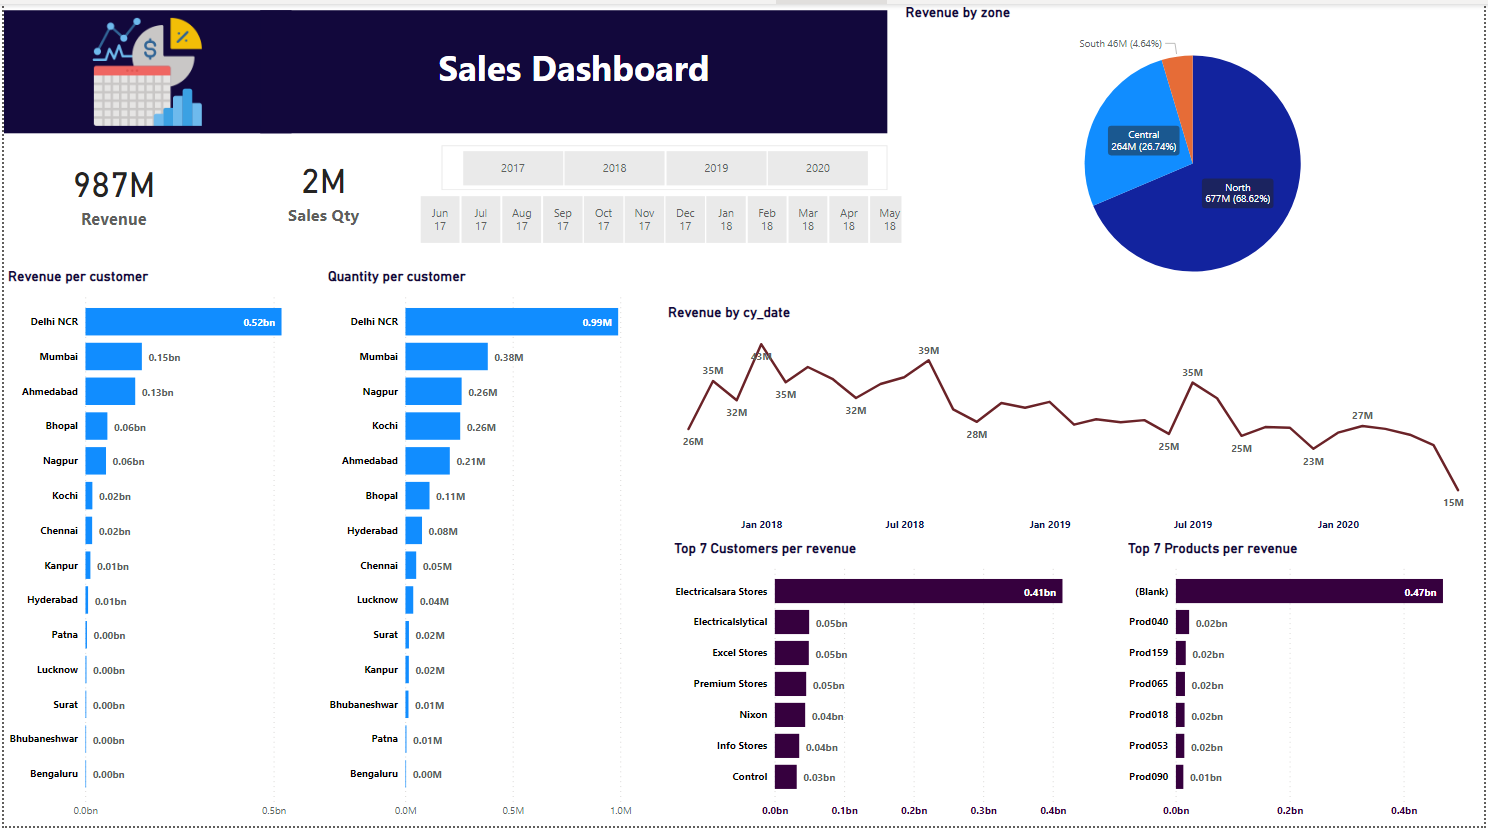

What the dashboard file says about the page in this screenshot:
{"tool":"powerbi","page":{"name":"Page 1","canvas":[1800,1000],"ordinal":0},"visuals":[{"type":"card","fields":{"Values":["Base Measure.Revenue"]},"box":[0,157.6,267.4,140.6],"z":0},{"type":"card","fields":{"Values":["Base Measure.Sales Qty"]},"box":[267.4,148.4,242.6,149.9],"z":1000},{"type":"clusteredBarChart","title":"Revenue per customer","fields":{"Y":["Sum(sales transactions.Cleaned Sales Amount)"],"Category":["sales markets.markets_name"]},"box":[0,320.7,402.7,679.3],"z":2000},{"type":"clusteredBarChart","title":"Quantity per customer","fields":{"Category":["sales markets.markets_name"],"Y":["Sum(sales transactions.sales_qty)"]},"box":[389.1,320.7,401.2,679.3],"z":3000},{"type":"slicer","fields":{"Values":["sales date.year"]},"box":[531.6,171.5,542.5,55.6],"z":4000},{"type":"slicer","fields":{"Values":["sales date.cy_date"]},"box":[480.6,227.2,644.5,71.1],"z":5000},{"type":"clusteredBarChart","title":"Top 7 Customers per revenue","fields":{"Category":["sales customers.custmer_name"],"Y":["Base Measure.Revenue"]},"box":[810,652,530.4,348],"z":6000},{"type":"clusteredBarChart","title":"Top 7 Products per revenue","fields":{"Y":["Base Measure.Revenue"],"Category":["sales products.product_code"]},"box":[1361.7,652,437.7,348],"z":7000},{"type":"lineChart","fields":{"Y":["Base Measure.Revenue"],"Category":["sales date.cy_date"]},"box":[802.4,364.7,995.4,287.2],"z":8000},{"type":"pieChart","fields":{"Category":["sales markets.zone"],"Y":["Base Measure.Revenue"]},"box":[1091.2,0,708.2,369.3],"z":9000},{"type":"image","box":[0,8.2,349.3,149.9],"z":10000},{"type":"textbox","box":[311.4,8.2,762.8,149.9],"z":11000}]}

Visuals, with their boxes in screenshot pixels (x1, y1, x2, y2), scaled from the page's 1800x1000 canvas onto the 1488x828 screenshot:
card - Base Measure.Revenue: x1=0 y1=130 x2=221 y2=247
card - Base Measure.Sales Qty: x1=221 y1=123 x2=422 y2=247
"Revenue per customer" clusteredBarChart: x1=0 y1=266 x2=333 y2=827
"Quantity per customer" clusteredBarChart: x1=322 y1=266 x2=653 y2=827
slicer - sales date.year: x1=439 y1=142 x2=888 y2=188
slicer - sales date.cy_date: x1=397 y1=188 x2=930 y2=247
"Top 7 Customers per revenue" clusteredBarChart: x1=670 y1=540 x2=1108 y2=827
"Top 7 Products per revenue" clusteredBarChart: x1=1126 y1=540 x2=1487 y2=827
lineChart - Base Measure.Revenue x sales date.cy_date: x1=663 y1=302 x2=1486 y2=540
pieChart - sales markets.zone x Base Measure.Revenue: x1=902 y1=0 x2=1487 y2=306
image: x1=0 y1=7 x2=289 y2=131
textbox: x1=257 y1=7 x2=888 y2=131
